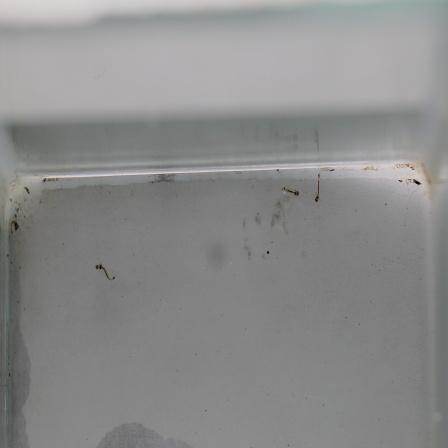Jentik-Nyamuk: (92, 258, 120, 284), (309, 171, 326, 207), (279, 181, 303, 201)
